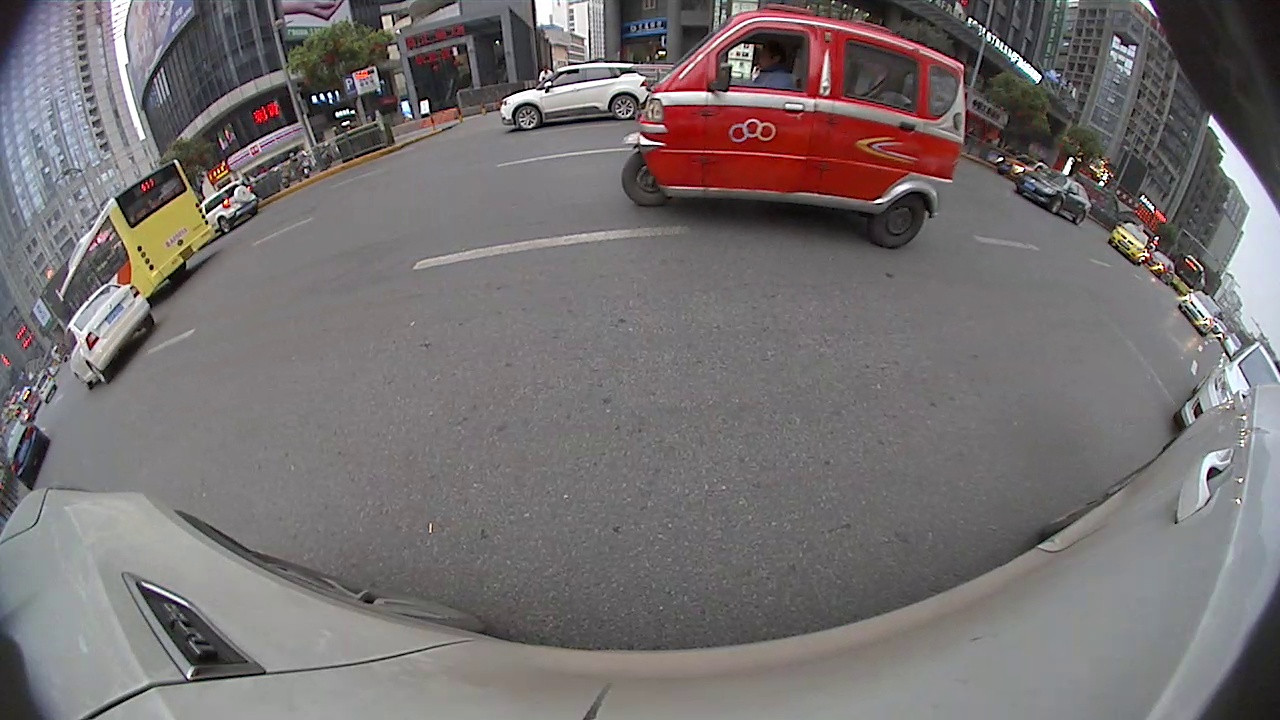bus: (57, 155, 217, 317)
car: (499, 60, 653, 133), (63, 282, 157, 391), (1173, 339, 1279, 426), (1014, 168, 1090, 229), (200, 179, 261, 234), (1176, 288, 1223, 338), (1108, 220, 1150, 262)
front: (618, 149, 671, 208), (513, 104, 543, 132), (1049, 197, 1064, 216)
rear: (867, 189, 928, 250), (610, 93, 640, 123), (88, 364, 109, 388), (217, 216, 232, 235)
rider: (617, 8, 969, 251)
